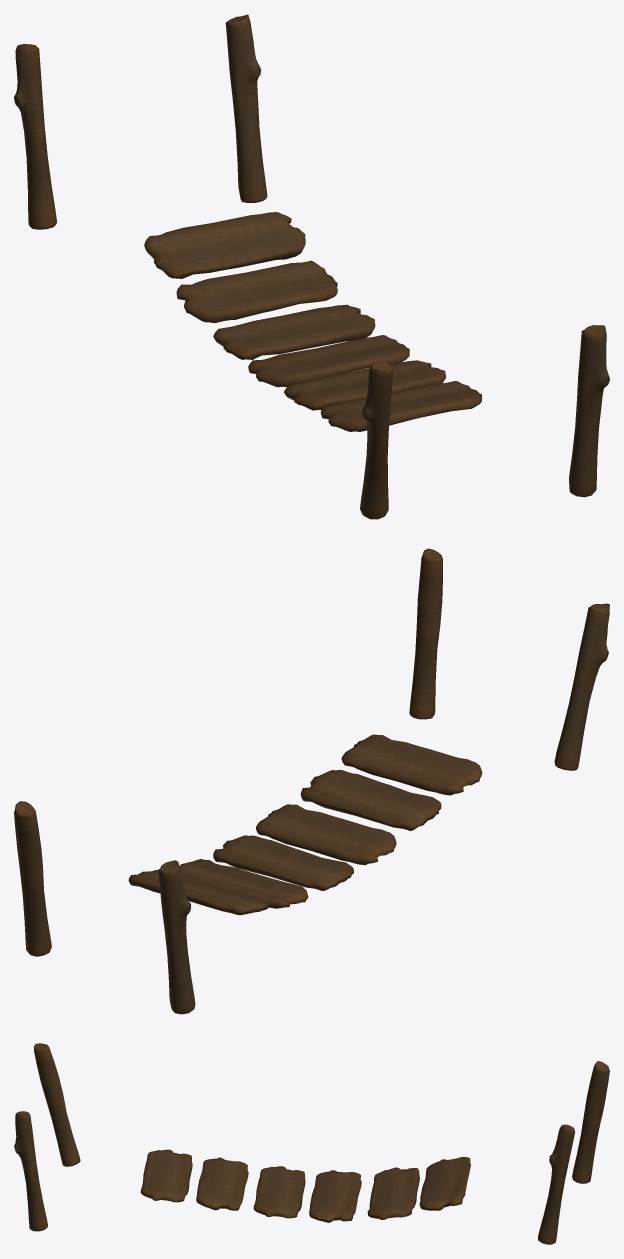
The model's file is BridgeWoodShape.dae.
The picture shows the model from 3 angles, top to bottom: view 1: azimuth 30°, elevation 25°; view 2: azimuth 150°, elevation 25°; view 3: azimuth 270°, elevation 25°; orthographic projection. The views are drawn at different scales.
Visible parts, largest first — view 1: BridgeWood; view 2: BridgeWood; view 3: BridgeWood.
Boxes of the visible parts, <box> form: BridgeWood: <box>14,14,609,519</box>; BridgeWood: <box>14,548,609,1014</box>; BridgeWood: <box>14,1043,609,1244</box>.
Bounding box in the file's own units: 10.67 × 6.67 × 29.95.
